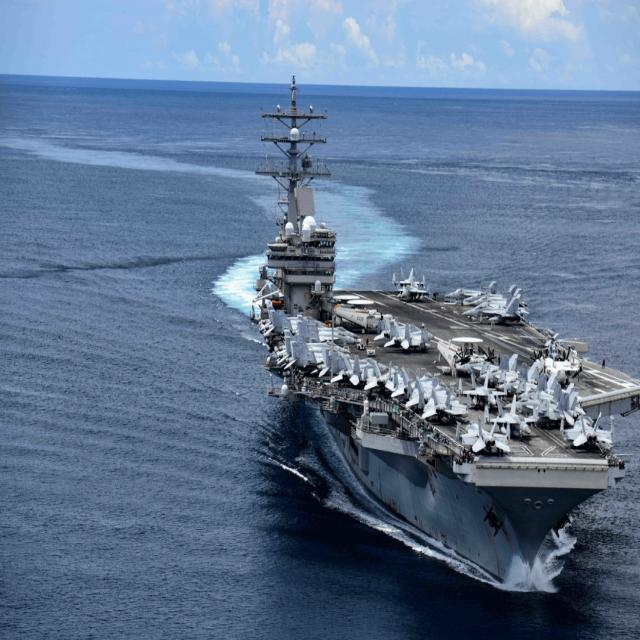Portanaves: (249, 69, 640, 602)
